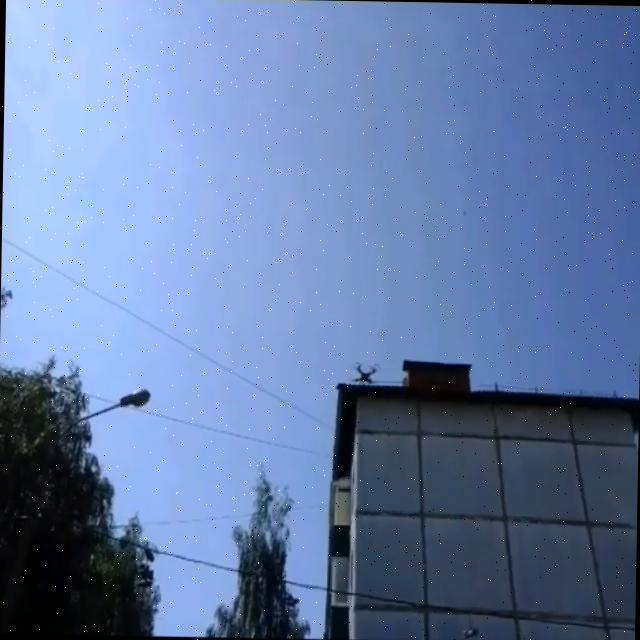Birds: (455, 207, 471, 219)
Drons: (344, 358, 384, 386)
